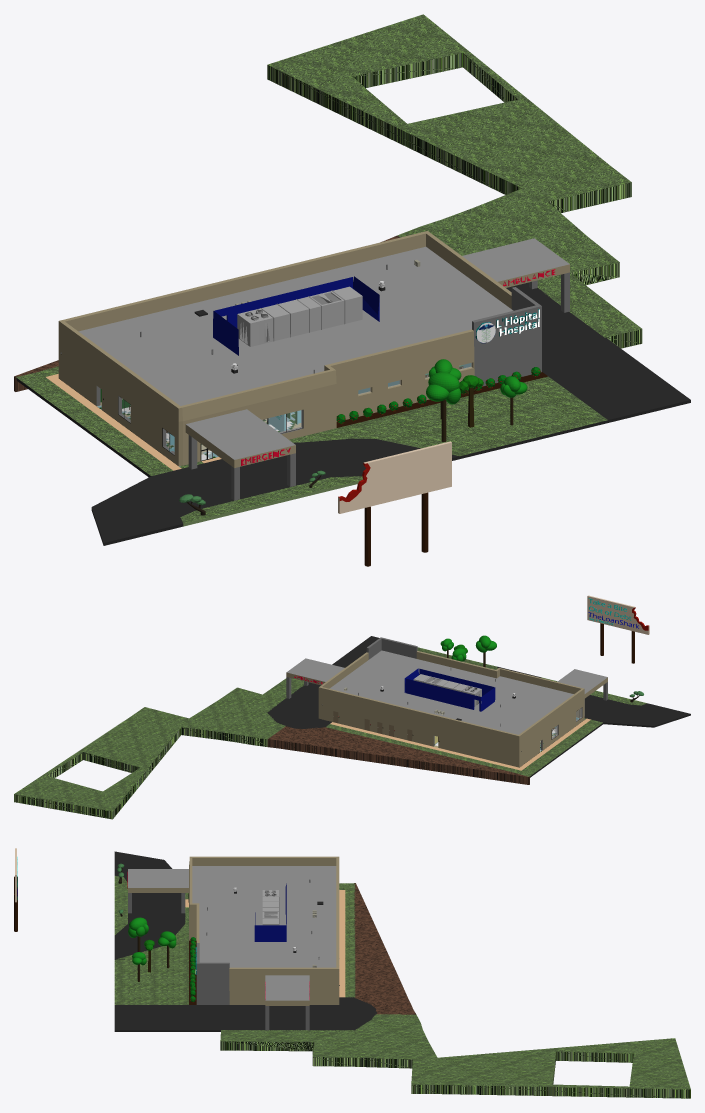
File: Hospital.glb
3 views of the same model, one above another, from view 1: azimuth 30°, elevation 25°; view 2: azimuth 150°, elevation 25°; view 3: azimuth 270°, elevation 25° (orthographic). The views are drawn at different scales.
Visible parts, largest first — view 1: Exterior Walls, Site, Undeveloped Land, Canopies, Stand, RTU, RTU Screenwalls, Trees, Windows, Rose Bushes, Trees2; view 2: Exterior Walls, Undeveloped Land, Site, Canopies, RTU Screenwalls, Stand, Trees, RTU, Text; view 3: Undeveloped Land, Exterior Walls, Site, Canopies, Trees, RTU Screenwalls, RTU.
Part boxes in pixels (left/top/right/bottom): Exterior Walls: left=58, top=231, right=541, bottom=465; Site: left=16, top=282, right=690, bottom=545; Undeveloped Land: left=14, top=14, right=642, bottom=391; Canopies: left=185, top=238, right=569, bottom=500; Stand: left=338, top=441, right=451, bottom=566; RTU: left=237, top=286, right=362, bottom=346; RTU Screenwalls: left=213, top=276, right=379, bottom=355; Trees: left=426, top=359, right=527, bottom=441; Windows: left=118, top=363, right=471, bottom=461; Rose Bushes: left=336, top=367, right=540, bottom=424; Trees2: left=179, top=375, right=483, bottom=515; Exterior Walls: left=318, top=637, right=584, bottom=767; Undeveloped Land: left=14, top=678, right=529, bottom=819; Site: left=267, top=636, right=690, bottom=777; Canopies: left=286, top=658, right=607, bottom=715; RTU Screenwalls: left=404, top=668, right=495, bottom=711; Stand: left=587, top=595, right=649, bottom=663; Trees: left=440, top=635, right=496, bottom=667; RTU: left=413, top=674, right=481, bottom=706; Text: left=588, top=598, right=638, bottom=628; Undeveloped Land: left=220, top=883, right=690, bottom=1098; Exterior Walls: left=189, top=856, right=339, bottom=1004; Site: left=114, top=851, right=376, bottom=1031; Canopies: left=127, top=869, right=309, bottom=1030; Trees: left=128, top=917, right=176, bottom=981; RTU Screenwalls: left=254, top=883, right=286, bottom=941; RTU: left=262, top=890, right=279, bottom=925.
Size of what is drawn, in the model's own units: 84.74 by 11.22 by 102.
Materials: 101 (10 with a texture image).
